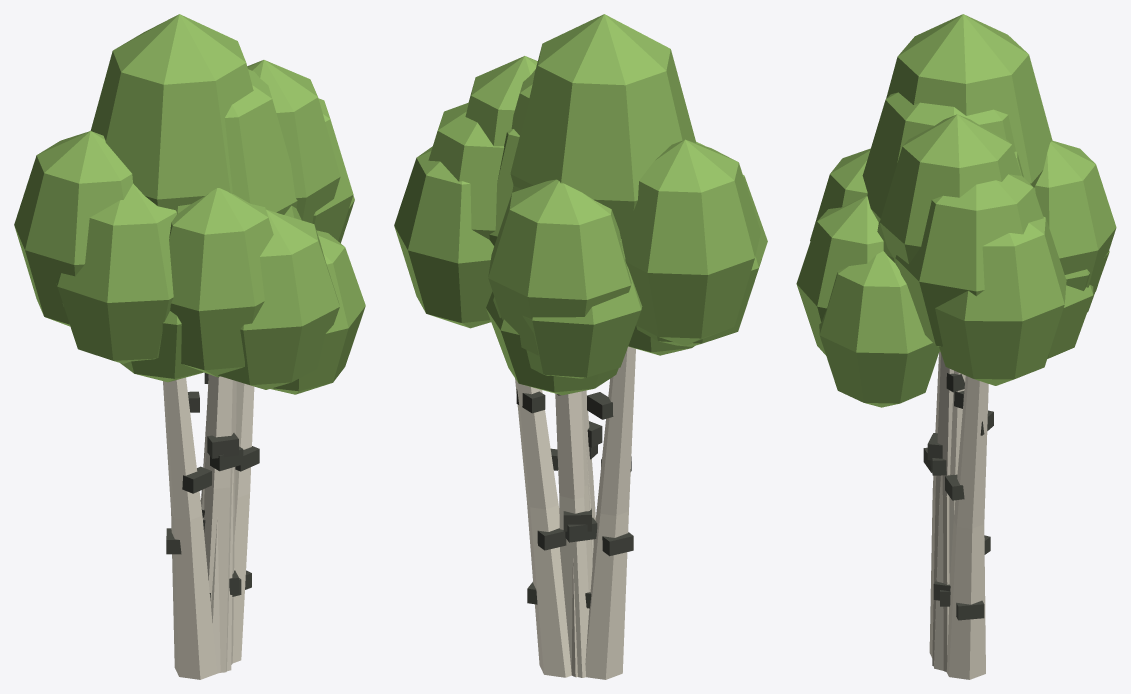
File: tree_birch_spring.glb
3 renders of one model, left to right at view 1: azimuth 30°, elevation 25°; view 2: azimuth 150°, elevation 25°; view 3: azimuth 270°, elevation 25°, orthographic. The views are drawn at different scales.
Visible parts, largest first — view 1: Birch_airy_lobe_canopy.010, Birch_airy_lobe_canopy.001, Birch_airy_lobe_canopy.013, Birch_airy_lobe_canopy.011, Birch_airy_lobe_canopy.003, Birch_pale_stem.001, Birch_airy_lobe_canopy, Birch_airy_lobe_canopy.012, Birch_pale_stem.003, Birch_airy_lobe_canopy.008, Birch_pale_stem.002, Birch_airy_lobe_canopy.006 (+4 smaller); view 2: Birch_airy_lobe_canopy.010, Birch_airy_lobe_canopy.011, Birch_airy_lobe_canopy.014, Birch_airy_lobe_canopy.007, Birch_pale_stem.001, Birch_pale_stem.002, Birch_airy_lobe_canopy.004, Birch_pale_stem, Birch_airy_lobe_canopy.002, Birch_airy_lobe_canopy.012, Birch_airy_lobe_canopy.009, Birch_pale_stem.003 (+6 smaller); view 3: Birch_airy_lobe_canopy.007, Birch_airy_lobe_canopy.010, Birch_airy_lobe_canopy.008, Birch_airy_lobe_canopy.002, Birch_airy_lobe_canopy.012, Birch_pale_stem.002, Birch_airy_lobe_canopy.014, Birch_airy_lobe_canopy.003, Birch_airy_lobe_canopy, Birch_pale_stem.003, Birch_pale_stem, Birch_airy_lobe_canopy.013 (+3 smaller).
Part boxes in pixels (bbox=[...]): Birch_airy_lobe_canopy.010: bbox=[90, 14, 253, 209]; Birch_airy_lobe_canopy.001: bbox=[56, 183, 176, 363]; Birch_airy_lobe_canopy.013: bbox=[169, 188, 273, 377]; Birch_airy_lobe_canopy.011: bbox=[14, 131, 132, 326]; Birch_airy_lobe_canopy.003: bbox=[218, 209, 339, 389]; Birch_pale_stem.001: bbox=[163, 377, 217, 679]; Birch_airy_lobe_canopy: bbox=[175, 69, 297, 214]; Birch_airy_lobe_canopy.012: bbox=[247, 60, 340, 223]; Birch_pale_stem.003: bbox=[201, 374, 236, 672]; Birch_airy_lobe_canopy.008: bbox=[270, 230, 365, 394]; Birch_pale_stem.002: bbox=[232, 381, 254, 663]; Birch_airy_lobe_canopy.006: bbox=[120, 311, 203, 382]; Birch_airy_lobe_canopy.010: bbox=[510, 14, 696, 229]; Birch_airy_lobe_canopy.011: bbox=[619, 139, 760, 345]; Birch_airy_lobe_canopy.014: bbox=[488, 179, 631, 355]; Birch_airy_lobe_canopy.007: bbox=[394, 146, 493, 328]; Birch_pale_stem.001: bbox=[585, 346, 635, 679]; Birch_pale_stem.002: bbox=[515, 378, 571, 677]; Birch_airy_lobe_canopy.004: bbox=[493, 239, 642, 378]; Birch_pale_stem: bbox=[555, 391, 593, 677]; Birch_airy_lobe_canopy.002: bbox=[428, 102, 504, 239]; Birch_airy_lobe_canopy.012: bbox=[465, 56, 537, 146]; Birch_airy_lobe_canopy.009: bbox=[486, 291, 618, 395]; Birch_pale_stem.003: bbox=[571, 390, 595, 677]; Birch_airy_lobe_canopy.007: bbox=[935, 216, 1066, 385]; Birch_airy_lobe_canopy.010: bbox=[886, 14, 1052, 187]; Birch_airy_lobe_canopy.008: bbox=[819, 251, 939, 407]; Birch_airy_lobe_canopy.002: bbox=[895, 174, 1043, 346]; Birch_airy_lobe_canopy.012: bbox=[880, 114, 1021, 269]; Birch_pale_stem.002: bbox=[946, 376, 988, 679]; Birch_airy_lobe_canopy.014: bbox=[1035, 141, 1116, 293]; Birch_airy_lobe_canopy.003: bbox=[796, 196, 883, 355]; Birch_airy_lobe_canopy: bbox=[862, 92, 1035, 222]; Birch_pale_stem.003: bbox=[932, 353, 953, 671]; Birch_pale_stem: bbox=[934, 370, 965, 670]; Birch_airy_lobe_canopy.013: bbox=[810, 148, 870, 241].
Bounding box in the file's own units: 1.83 × 3.48 × 1.58.
